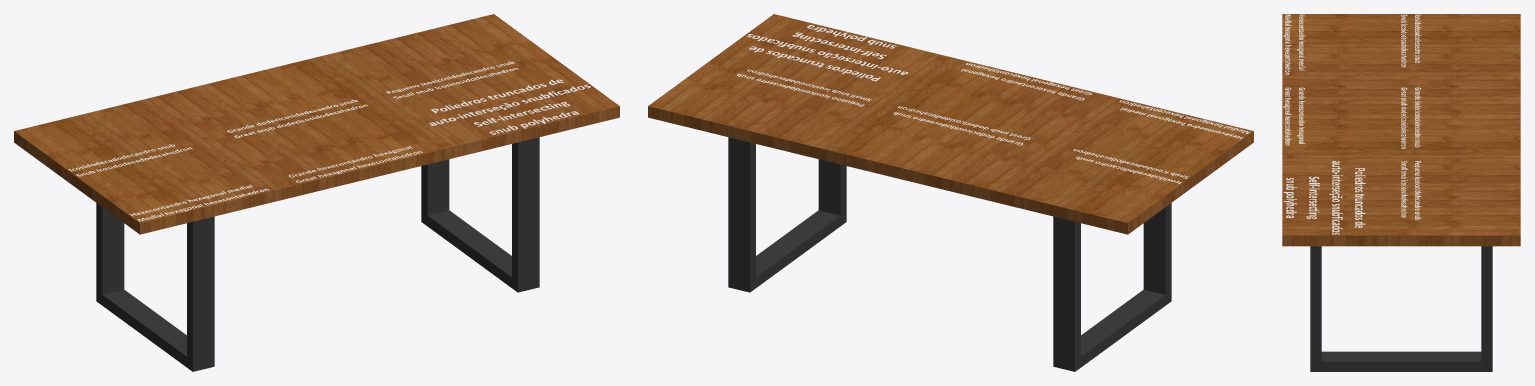
The model's file is selfinterSnubTrunc3.glb.
3 renders of one model, left to right at view 1: azimuth 30°, elevation 25°; view 2: azimuth 150°, elevation 25°; view 3: azimuth 270°, elevation 25°, orthographic. The views are drawn at different scales.
Parts seen in each view (by area): view 1: object 1, Composant#1 (×2), Poliedros trunca#3, Grande dodecicos, Grande hexeconta, Hexecontaedro he, Pequeno icosicos, Icosidodecadodec; view 2: object 1, Composant#1 (×2), Poliedros trunca#3, Grande dodecicos, Pequeno icosicos, Hexecontaedro he, Grande hexeconta, Icosidodecadodec; view 3: object 1, Composant#1, Poliedros trunca#3, Grande dodecicos, Hexecontaedro he, Pequeno icosicos, Grande hexeconta, Icosidodecadodec.
Part boxes in pixels (x1,y1,x2,y2): object 1: (14, 14, 619, 234); Composant#1 (×2): (96, 137, 539, 371); Poliedros trunca#3: (429, 79, 590, 134); Grande dodecicos: (227, 99, 367, 137); Grande hexeconta: (289, 146, 422, 182); Hexecontaedro he: (130, 184, 269, 221); Pequeno icosicos: (386, 61, 518, 99); Icosidodecadodec: (68, 144, 192, 176); object 1: (648, 14, 1253, 234); Composant#1 (×2): (728, 137, 1171, 371); Poliedros trunca#3: (746, 25, 908, 81); Grande dodecicos: (893, 106, 1030, 145); Pequeno icosicos: (737, 69, 871, 106); Hexecontaedro he: (1119, 100, 1250, 139); Grande hexeconta: (961, 63, 1091, 100); Icosidodecadodec: (1073, 149, 1188, 184); object 1: (1282, 14, 1520, 246); Composant#1: (1310, 246, 1492, 371); Poliedros trunca#3: (1283, 161, 1365, 234); Grande dodecicos: (1401, 87, 1421, 148); Hexecontaedro he: (1283, 14, 1304, 74); Pequeno icosicos: (1401, 161, 1421, 219); Grande hexeconta: (1283, 87, 1305, 145); Icosidodecadodec: (1401, 14, 1421, 67).
Bounding box in the file's own units: 2.2 × 0.7711 × 1.
Materials: 3 (1 with a texture image).
